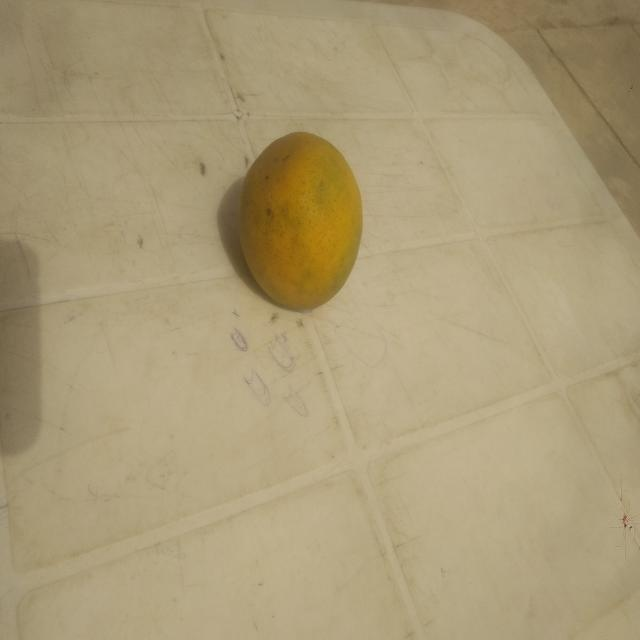agrume: (215, 107, 377, 353)
